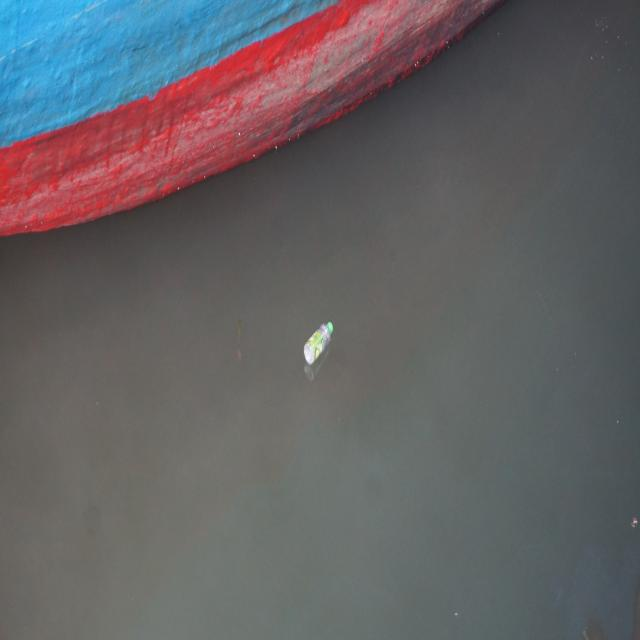Botol Plastik: (303, 314, 336, 370)
